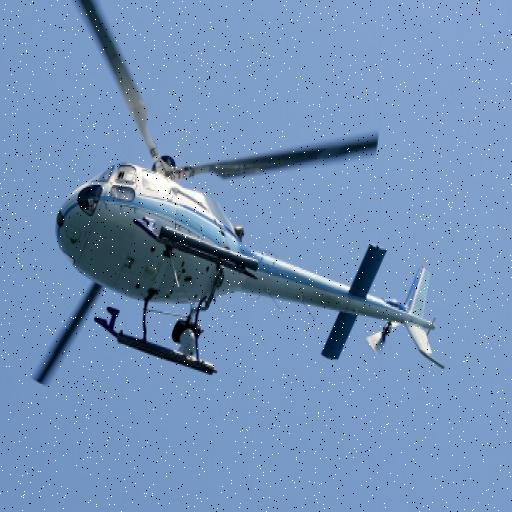helicopter: (26, 1, 448, 377)
